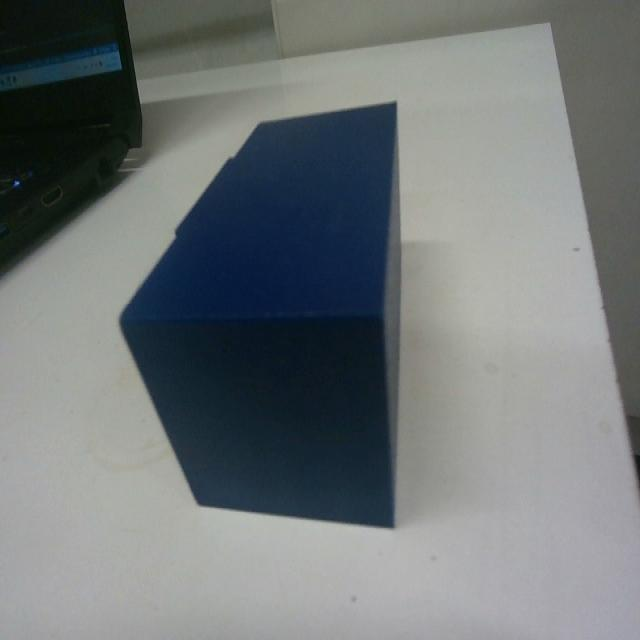Blue Cuboid: (118, 96, 405, 529)
